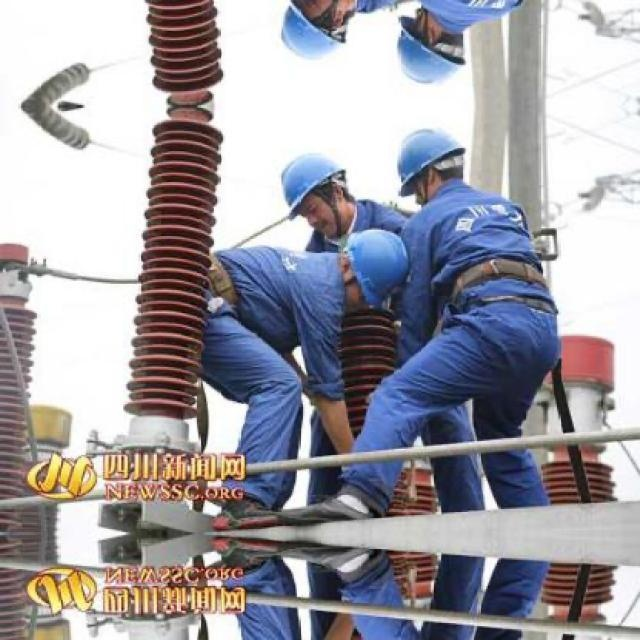Arnes_seguridad: (446, 260, 553, 309), (205, 252, 249, 328)
